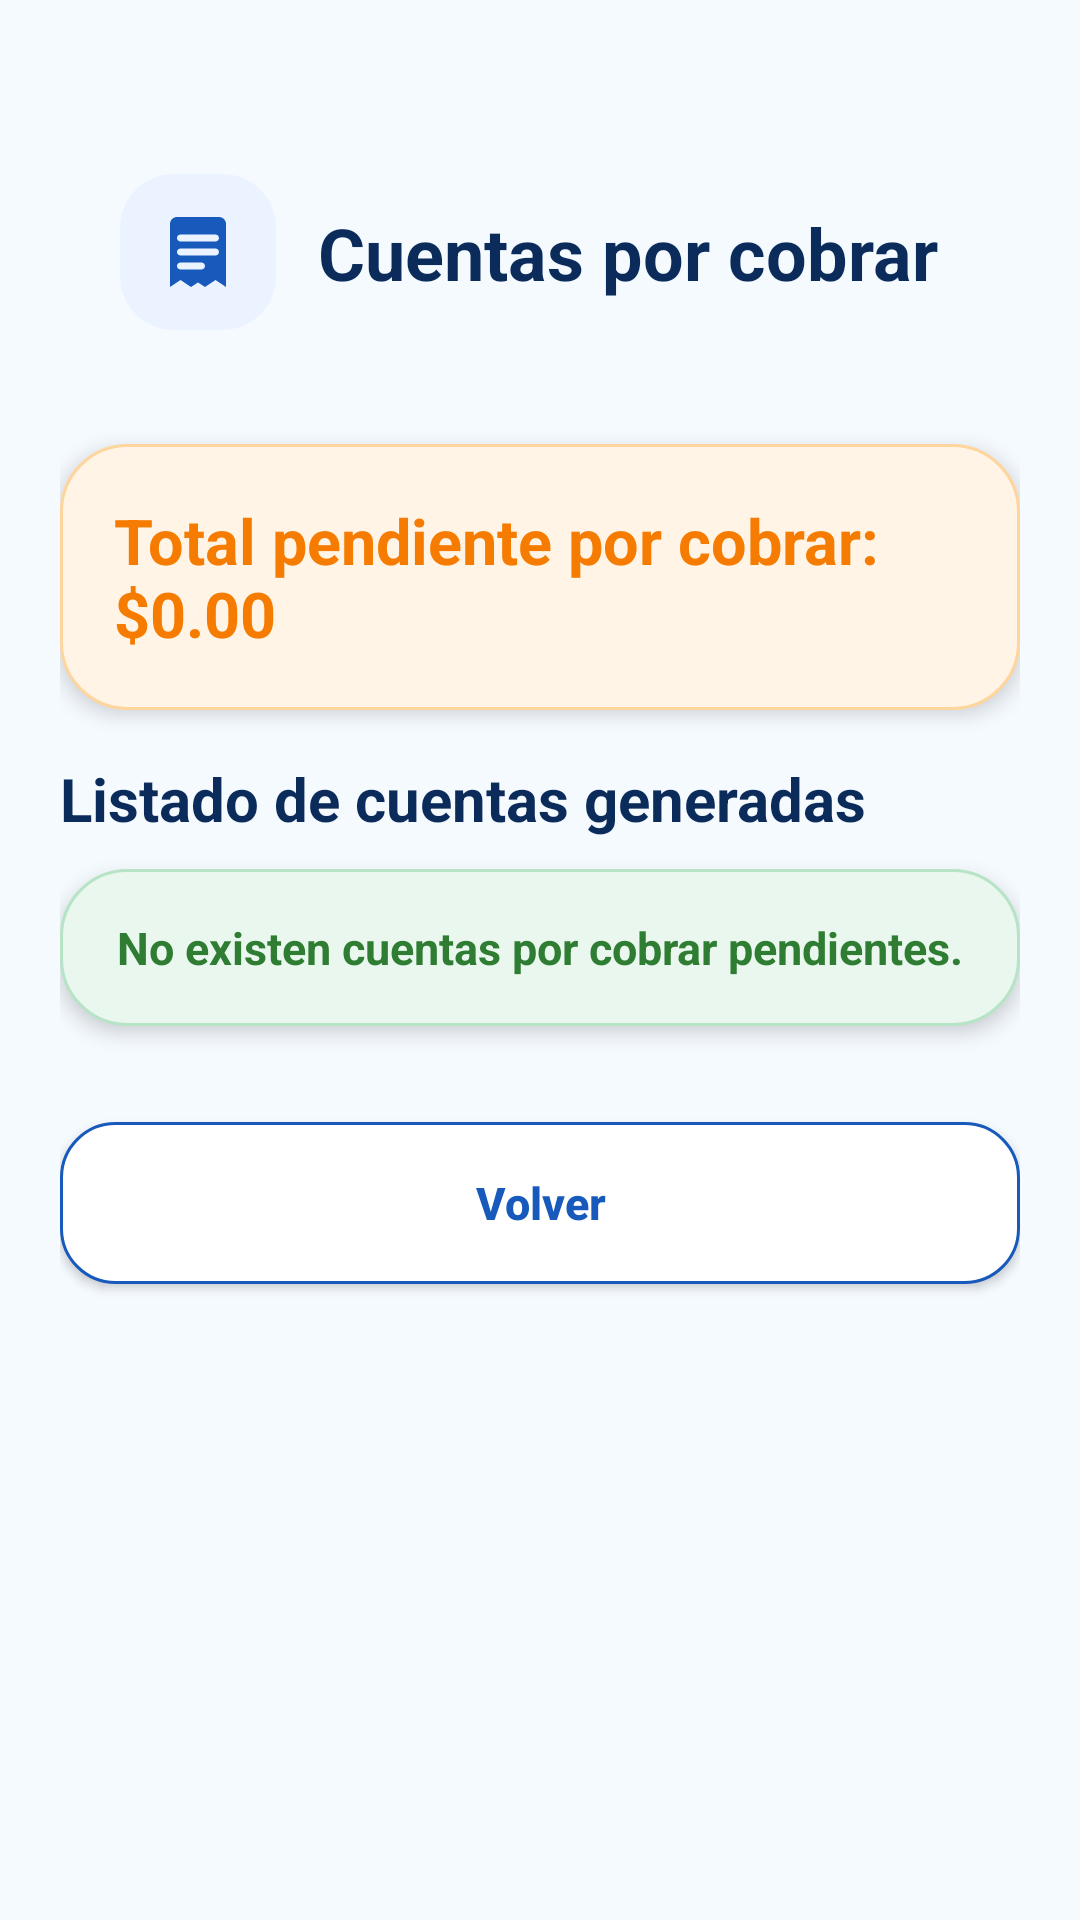

Screen size 1080px x 1920px. Icon name, then its center in pixels as point (x, y):
receipt moderno: point (198, 252)
